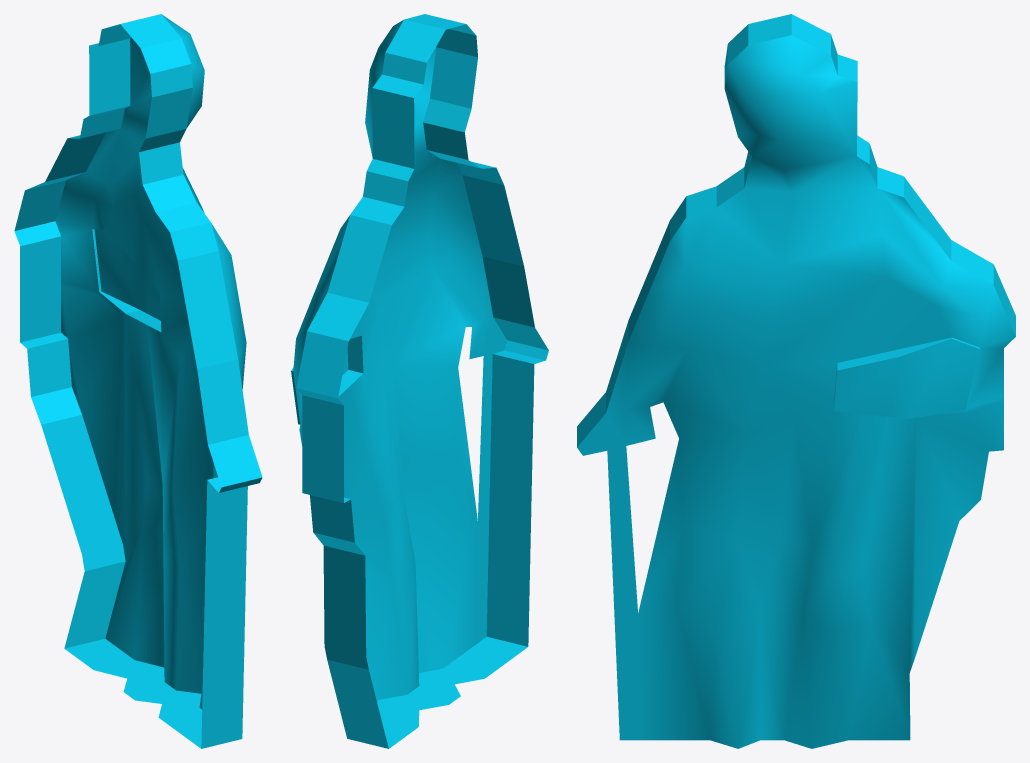
The picture shows the model from 3 angles, left to right: view 1: azimuth 30°, elevation 25°; view 2: azimuth 150°, elevation 25°; view 3: azimuth 270°, elevation 25°; orthographic projection. The views are drawn at different scales.
Visible parts, largest first — view 1: Plane026; view 2: Plane026; view 3: Plane026.
Part boxes in pixels (bbox=[...]): Plane026: bbox=[14, 14, 262, 748]; Plane026: bbox=[291, 14, 548, 748]; Plane026: bbox=[577, 14, 1015, 748].
Bounding box in the file's own units: 54.02 × 432 × 244.
